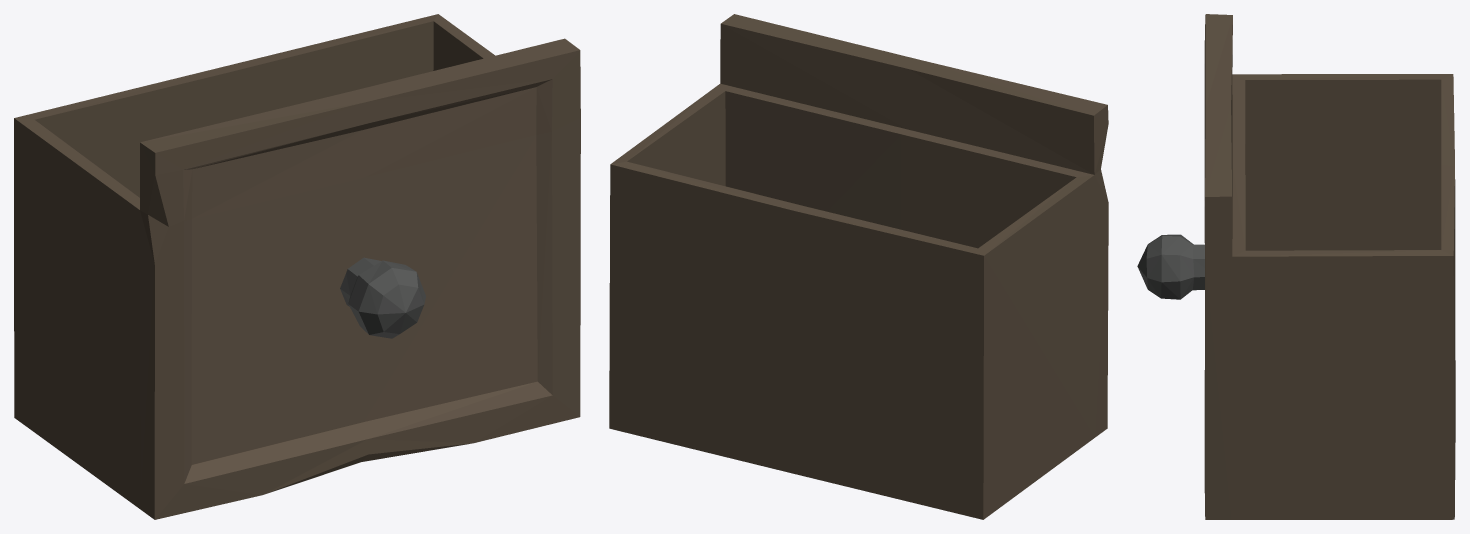
File: SFHW_Desk_Cabinet_003.fbx
The picture shows the model from 3 angles, left to right: view 1: azimuth 30°, elevation 25°; view 2: azimuth 150°, elevation 25°; view 3: azimuth 270°, elevation 25°; orthographic projection. The views are drawn at different scales.
Visible parts, largest first — view 1: SFHW_Desk_Cabinet_003; view 2: SFHW_Desk_Cabinet_003; view 3: SFHW_Desk_Cabinet_003.
Boxes of the visible parts, x1=… form: SFHW_Desk_Cabinet_003: x1=14, y1=14, x2=580, y2=519; SFHW_Desk_Cabinet_003: x1=609, y1=14, x2=1108, y2=519; SFHW_Desk_Cabinet_003: x1=1137, y1=14, x2=1455, y2=519.
Bounding box in the file's own units: 47.92 × 39.6 × 35.24.
